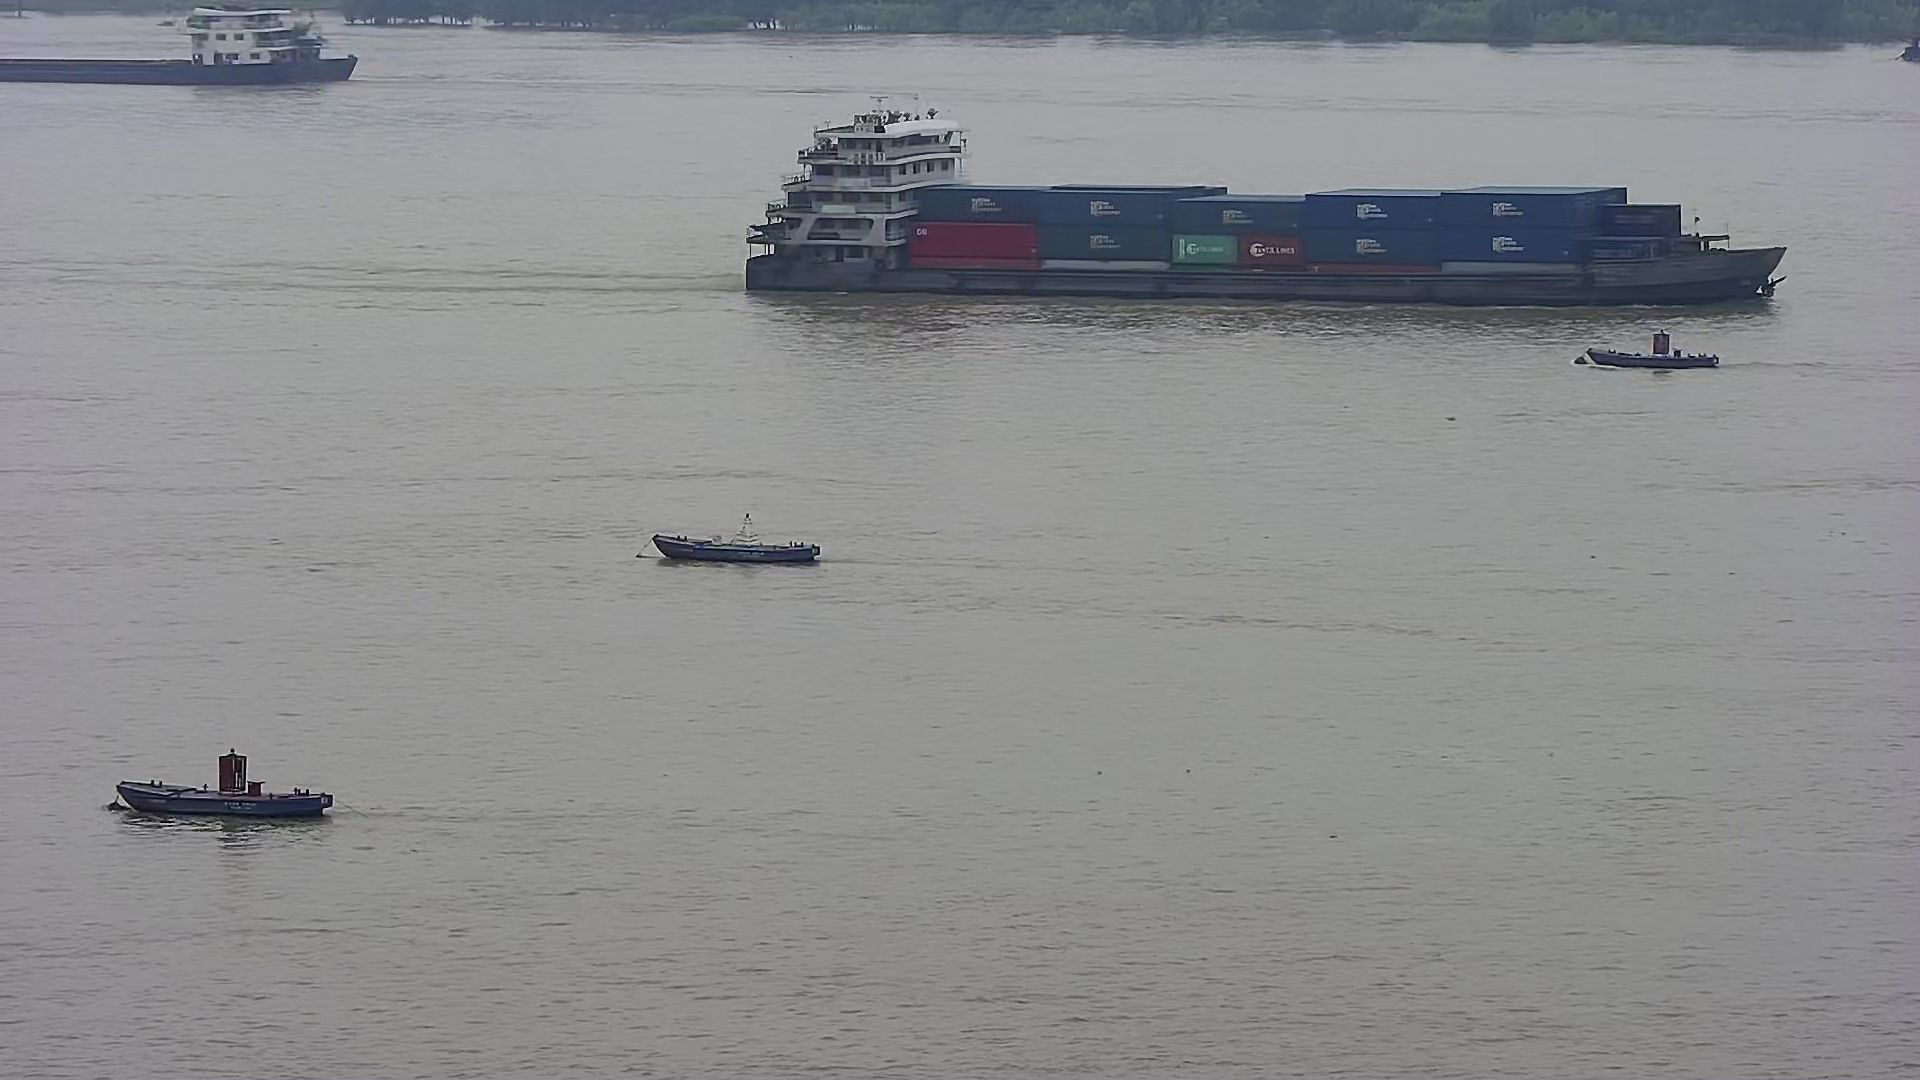boat: (105, 741, 348, 827), (647, 508, 829, 570), (1563, 324, 1741, 380)
ship: (735, 82, 1796, 310), (1, 1, 371, 96)
